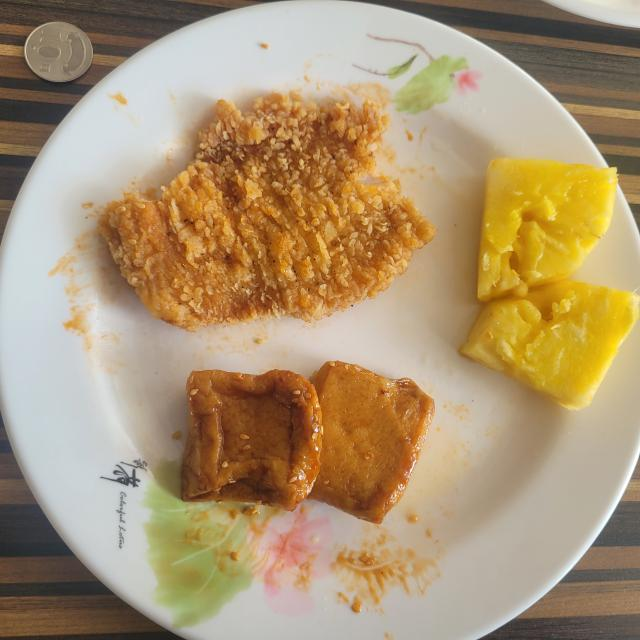coin: (24, 21, 92, 82)
creamy tofu: (181, 361, 435, 524)
fried chicken cutlet: (99, 94, 435, 330)
pineapple: (461, 159, 640, 409)
